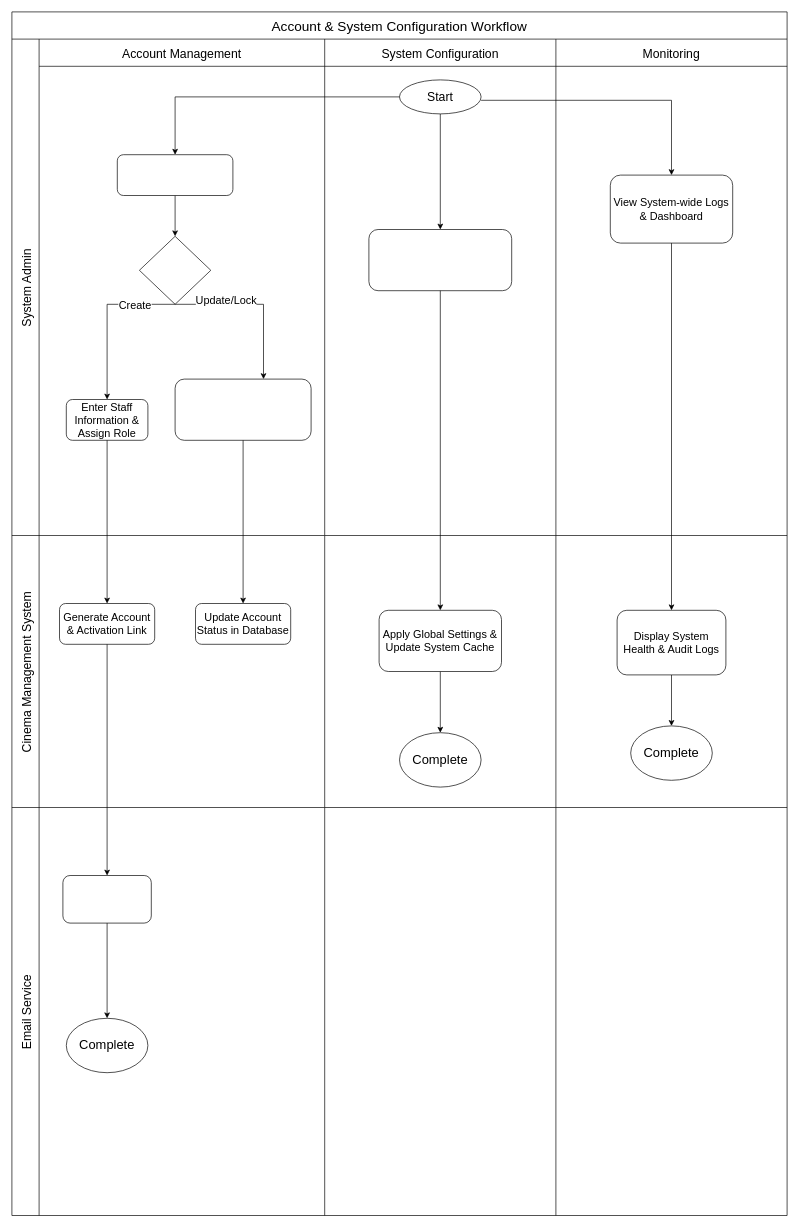
The diagram is 799 pixels wide and 1227 high, and some of its shapes have lost their labels. Each missing label, with the box of its shape:
Action Type?: (139, 236, 211, 304)
Configure System Settings (Holiday Calendar , Service Fee Rates): (368, 229, 512, 291)
Manage User Accounts & Roles: (117, 154, 233, 196)
Select Account to Activate/Deactivate/Unlock: (174, 378, 311, 440)
Send Credentials Email to Staff: (62, 875, 151, 923)
